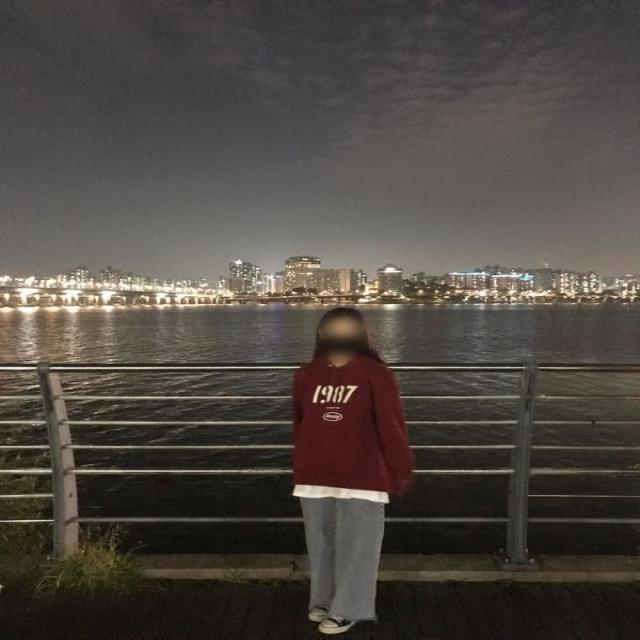denimpants: (303, 493, 387, 626)
hoodies: (288, 356, 412, 504)
